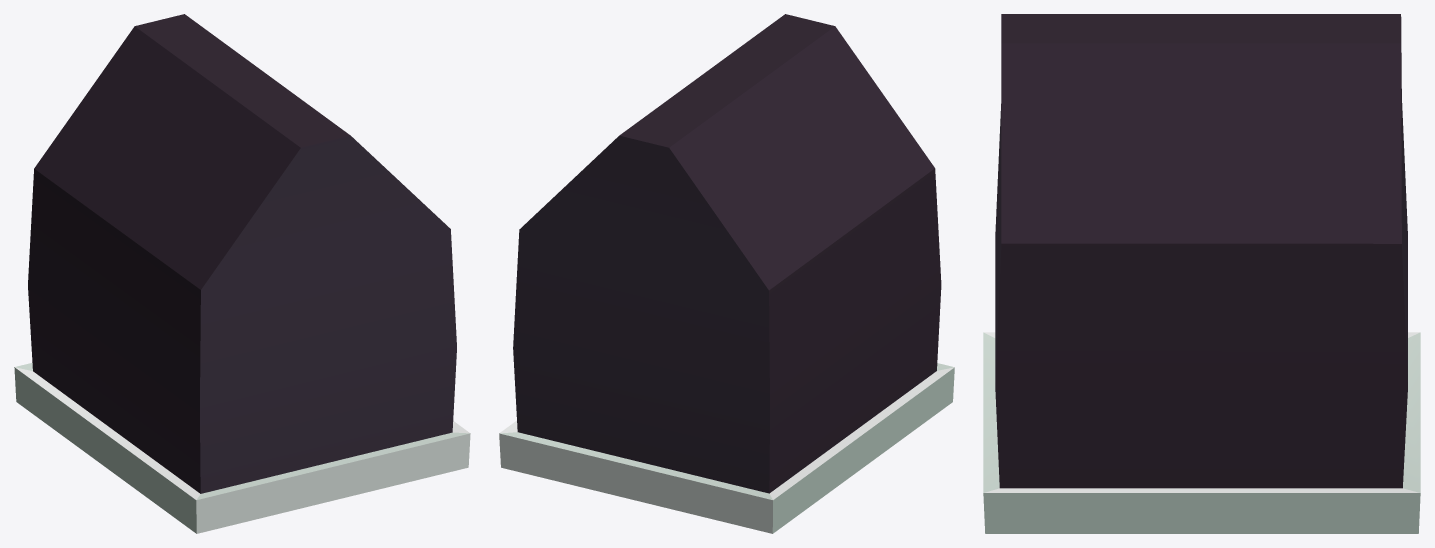
File: House01_Black_White.glb
3 renders of one model, left to right at view 1: azimuth 30°, elevation 25°; view 2: azimuth 150°, elevation 25°; view 3: azimuth 270°, elevation 25°, orthographic. The views are drawn at different scales.
Visible parts, largest first — view 1: House01_Black_White; view 2: House01_Black_White; view 3: House01_Black_White.
Part boxes in pixels (bbox=[...]): House01_Black_White: bbox=[14, 14, 470, 533]; House01_Black_White: bbox=[499, 14, 954, 533]; House01_Black_White: bbox=[983, 14, 1420, 533].
Bounding box in the file's own units: 2.04 × 2.51 × 2.34.
1 material, 1 textured.
